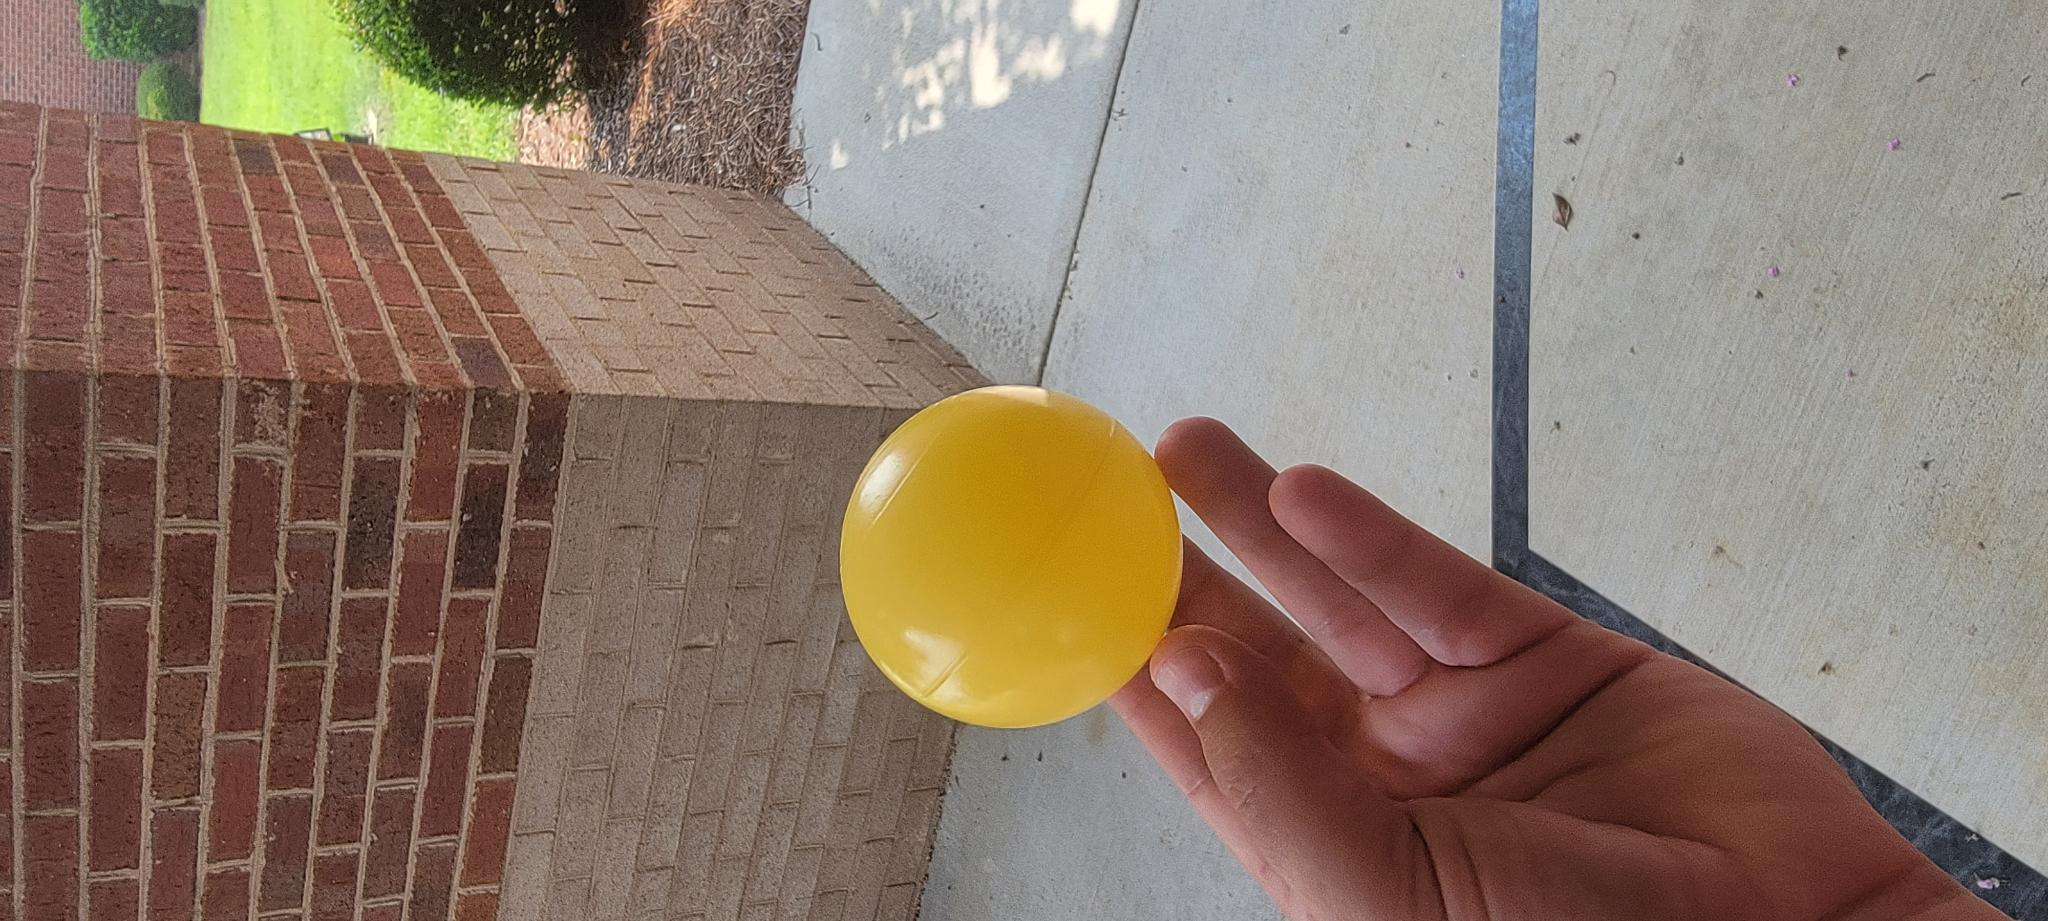Yellow-Ball: (196, 834, 533, 921)
